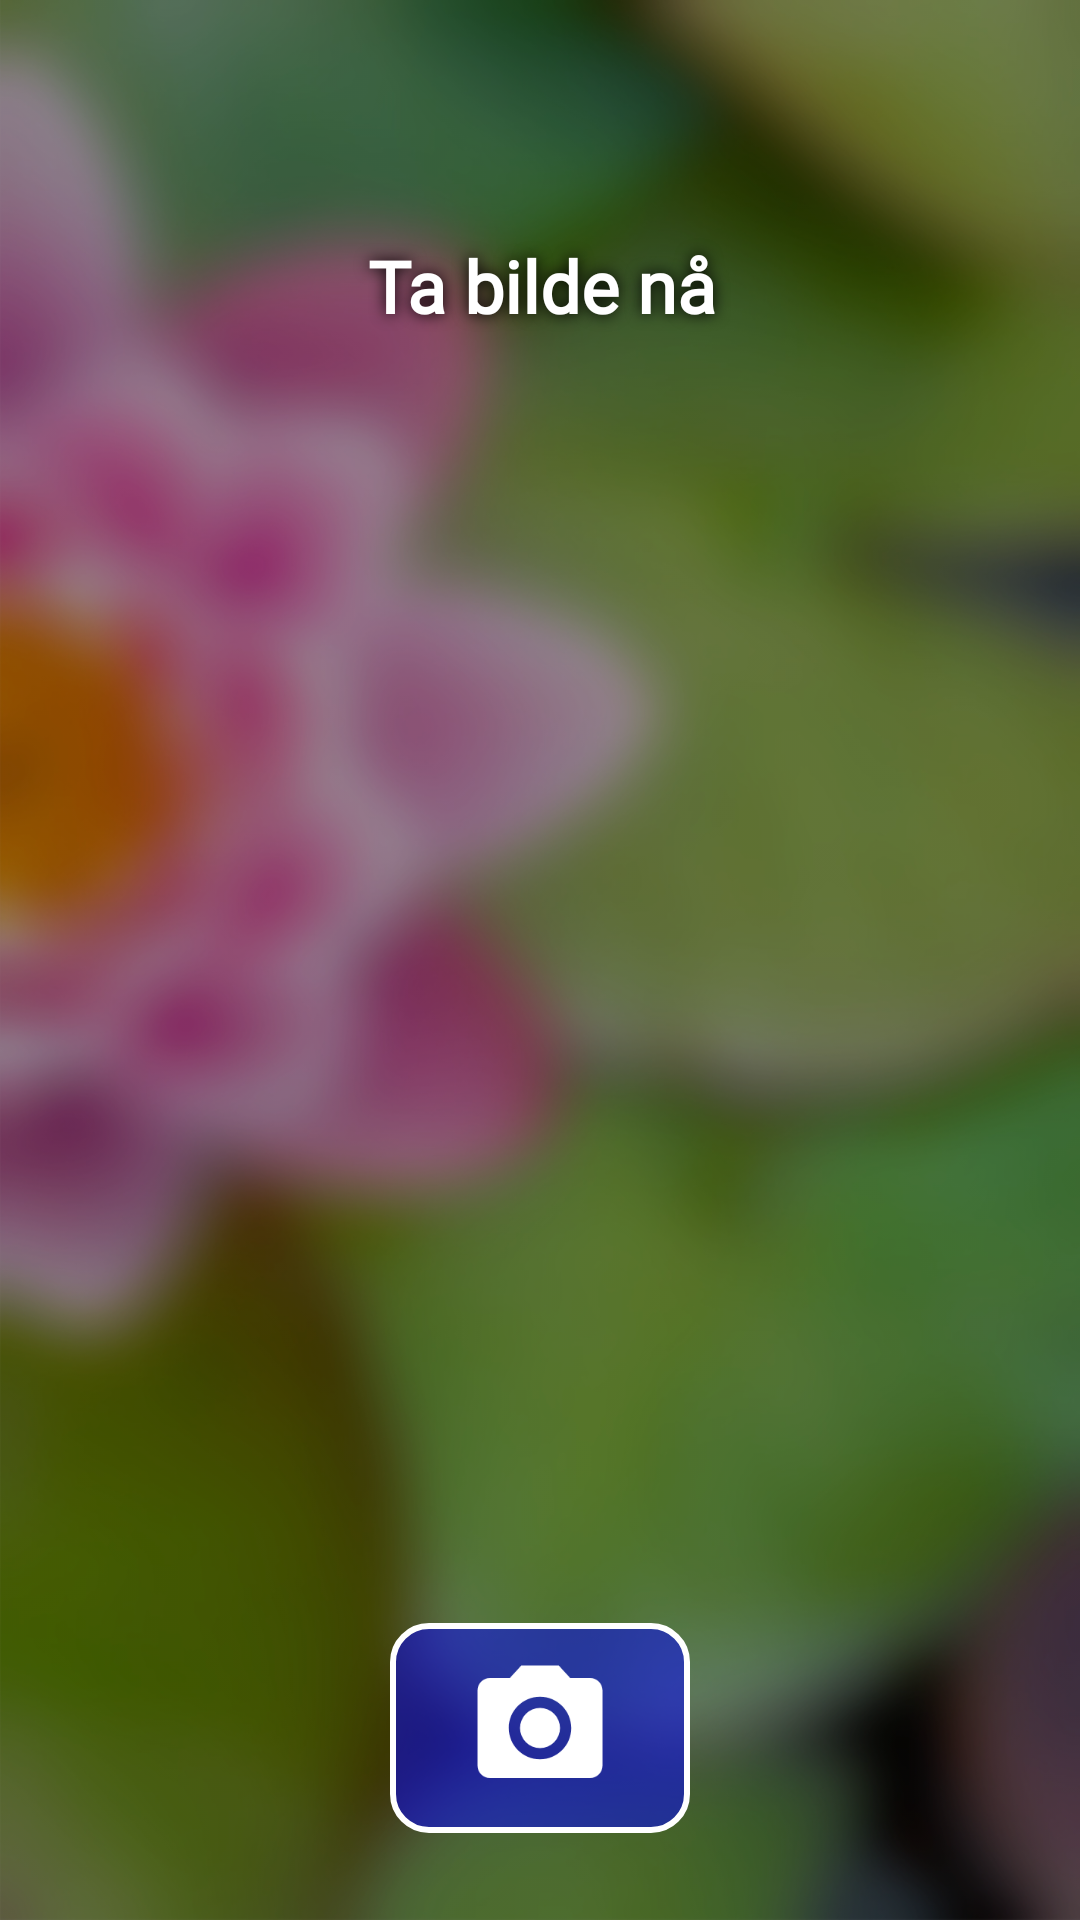

Screen size 1080px x 1920px. Icon name, then its box in pixels as {"x1": x1, "y1": y1, "x2": x2, "y2": y2}:
photo camera: {"x1": 390, "y1": 1623, "x2": 690, "y2": 1833}
